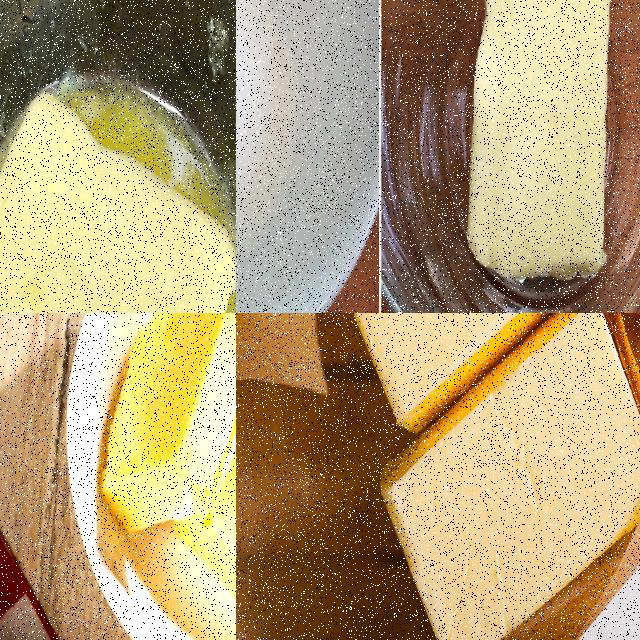butter: (378, 313, 639, 639), (0, 96, 235, 312), (461, 0, 620, 279), (103, 313, 235, 630), (329, 313, 598, 435)
